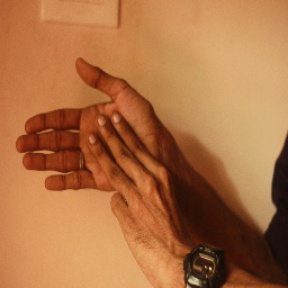M: (13, 58, 181, 206)
